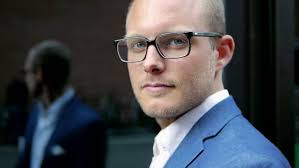white_male: (117, 15, 222, 115)
